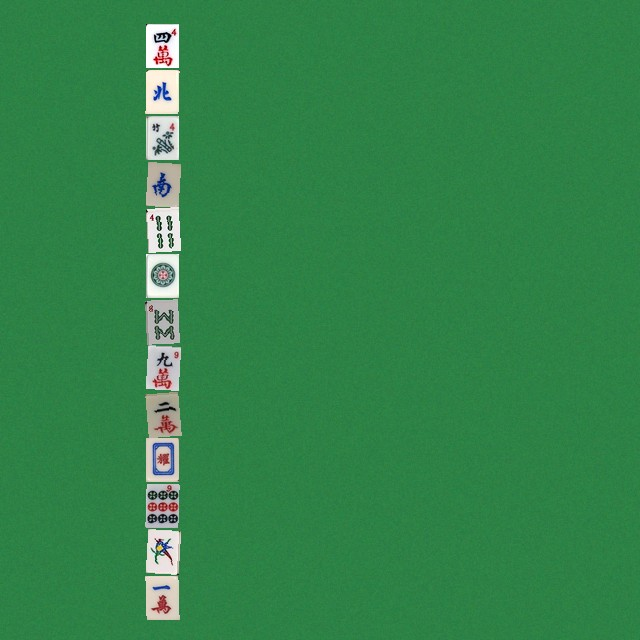tile: (145, 23, 178, 67), (145, 69, 178, 113), (145, 115, 178, 159), (145, 161, 178, 205), (145, 207, 178, 251), (145, 253, 178, 297), (145, 299, 178, 343), (145, 345, 178, 389), (145, 391, 178, 435), (145, 437, 178, 481), (145, 483, 178, 527), (145, 529, 178, 573), (145, 575, 178, 619)
